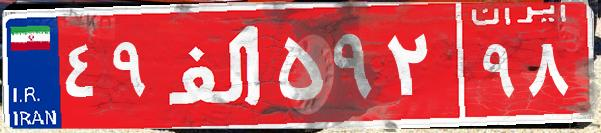2: (385, 28, 445, 110)
4: (57, 26, 110, 107)
5: (273, 28, 330, 110)
8: (525, 38, 570, 115)
9: (330, 28, 385, 110), (475, 38, 525, 113), (110, 28, 158, 105)
الف: (158, 15, 273, 115)
